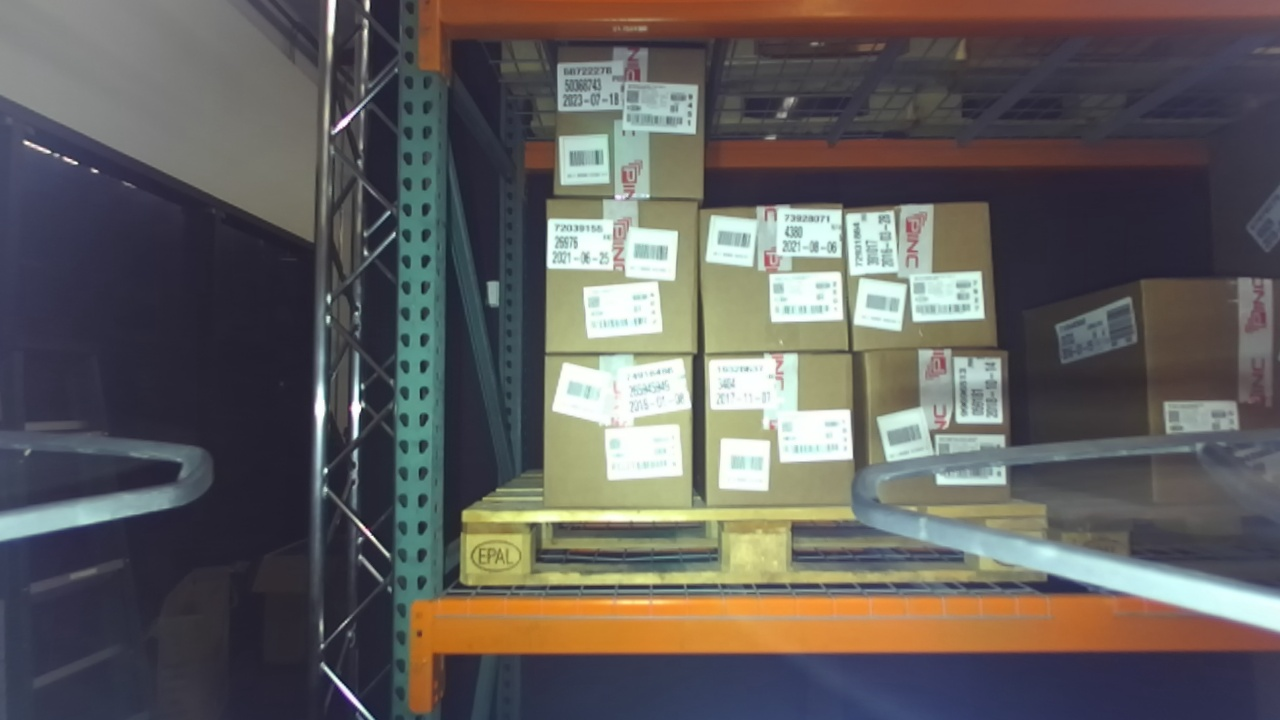box: (1126, 260, 1280, 516), (528, 188, 715, 364), (531, 344, 715, 522), (690, 341, 877, 515), (848, 333, 1022, 514), (833, 189, 1013, 362), (690, 185, 861, 366), (544, 38, 714, 212)
